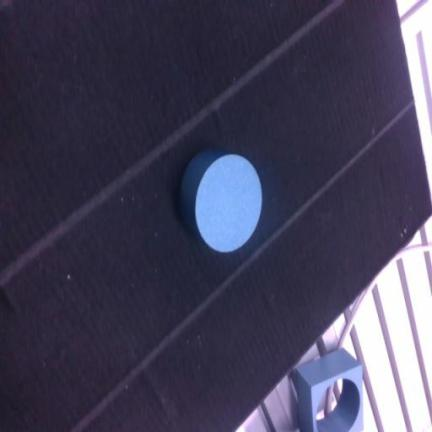cylinder: (180, 149, 262, 252)
